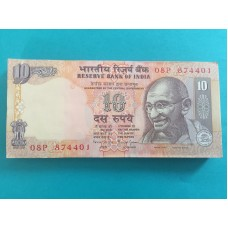ten_rupees_note: (6, 57, 223, 158)
